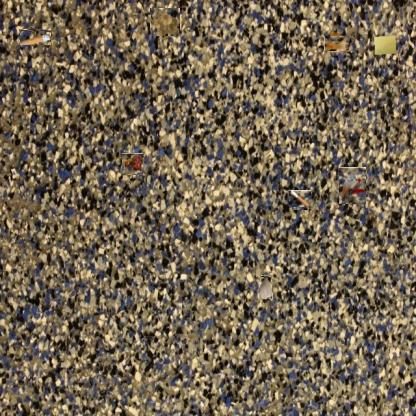dirty: (336, 170, 369, 202), (372, 34, 398, 56), (19, 30, 51, 46), (122, 153, 143, 175), (291, 189, 310, 209), (258, 276, 272, 300)
liquid: (150, 8, 180, 36), (327, 33, 347, 54)
